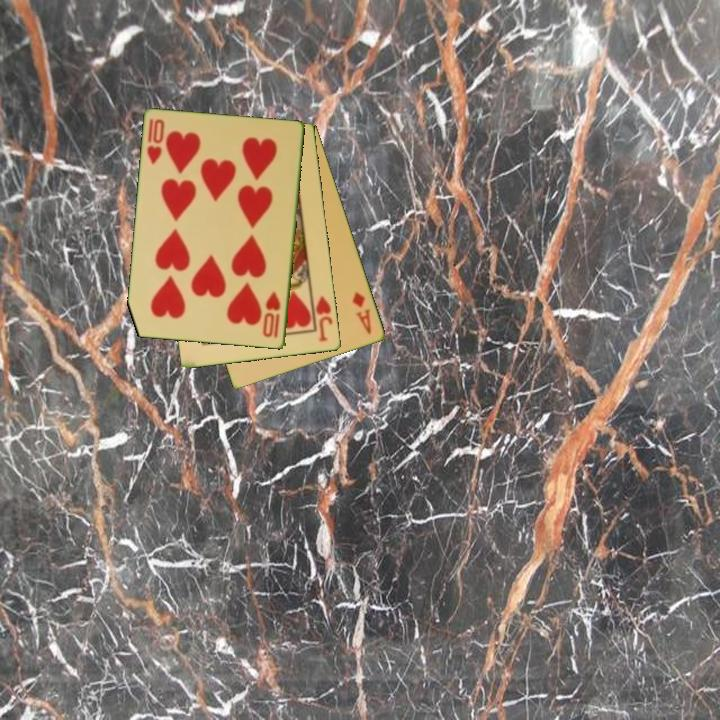10h: (260, 288, 284, 341), (144, 115, 168, 168)
Ad: (349, 288, 374, 337)
Jh: (313, 293, 336, 345)
